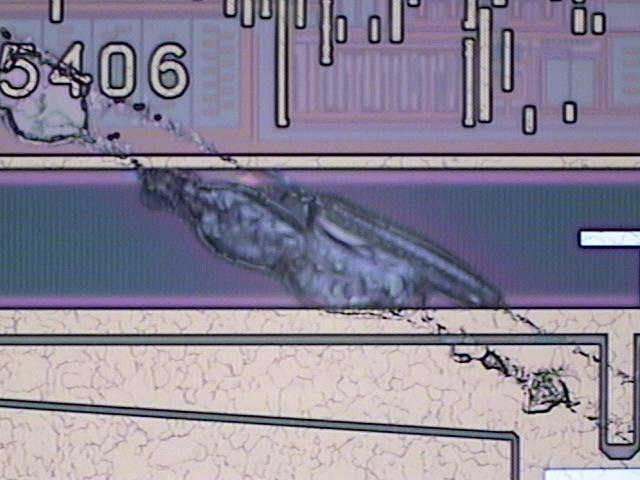SCRATCH: (2, 22, 640, 458)
